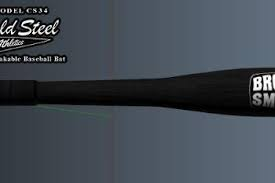baseball bat: (1, 65, 274, 116)
